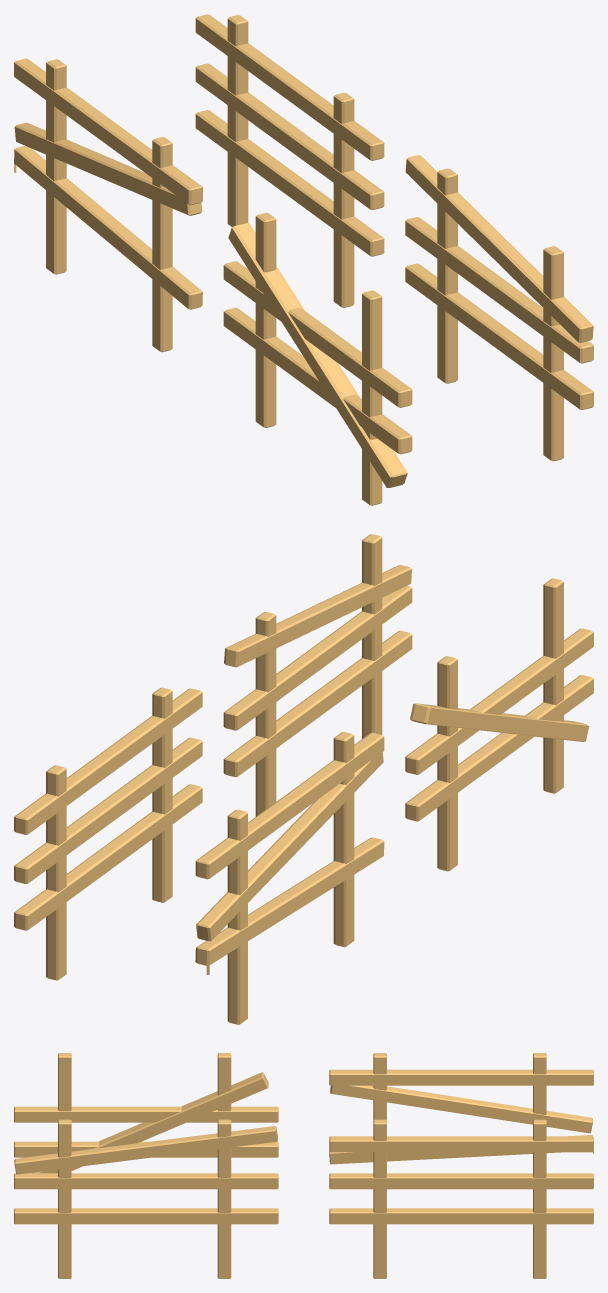
The model's file is fence.fbx.
3 views of the same model, one above another, from view 1: azimuth 30°, elevation 25°; view 2: azimuth 150°, elevation 25°; view 3: azimuth 270°, elevation 25° (orthographic). The views are drawn at different scales.
Parts seen in each view (by area): view 1: fence_3, fence_1, fence_4, fence_2; view 2: fence_1, fence_2, fence_3, fence_4; view 3: fence_1, fence_3, fence_2, fence_4.
Boxes of the visible parts, left/top/right/bottom form: fence_3: left=405, top=155, right=593, bottom=461; fence_1: left=195, top=14, right=384, bottom=307; fence_4: left=223, top=212, right=412, bottom=505; fence_2: left=14, top=58, right=202, bottom=352; fence_1: left=14, top=687, right=202, bottom=980; fence_2: left=195, top=732, right=384, bottom=1024; fence_3: left=223, top=534, right=412, bottom=816; fence_4: left=405, top=578, right=593, bottom=871; fence_1: left=329, top=1119, right=593, bottom=1278; fence_3: left=14, top=1119, right=278, bottom=1278; fence_2: left=329, top=1053, right=593, bottom=1164; fence_4: left=14, top=1053, right=278, bottom=1173.
Bounding box in the file's own units: 95.64 × 96.11 × 324.
